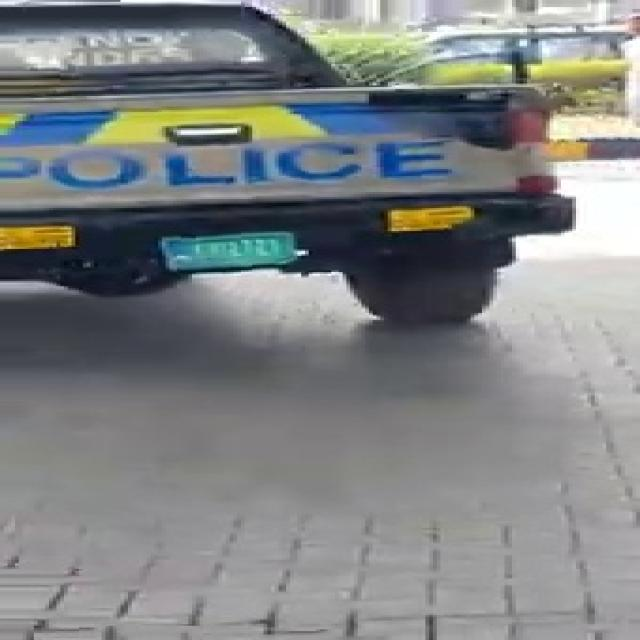police: (0, 0, 640, 319)
